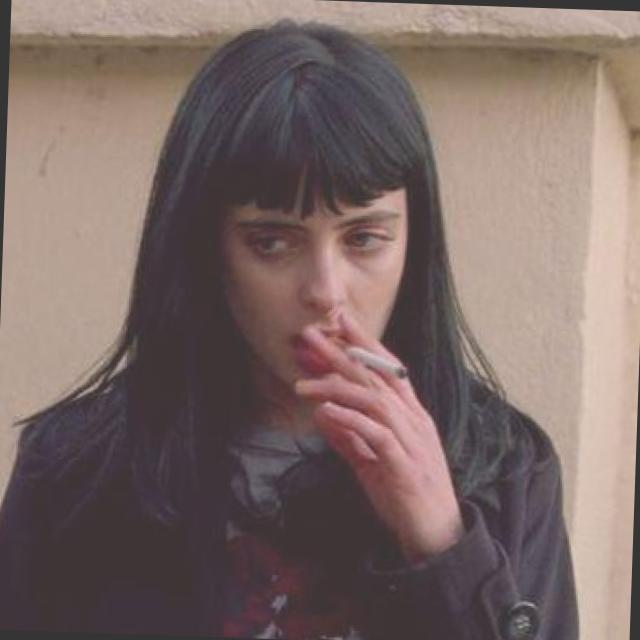smoke: (316, 322, 424, 395)
